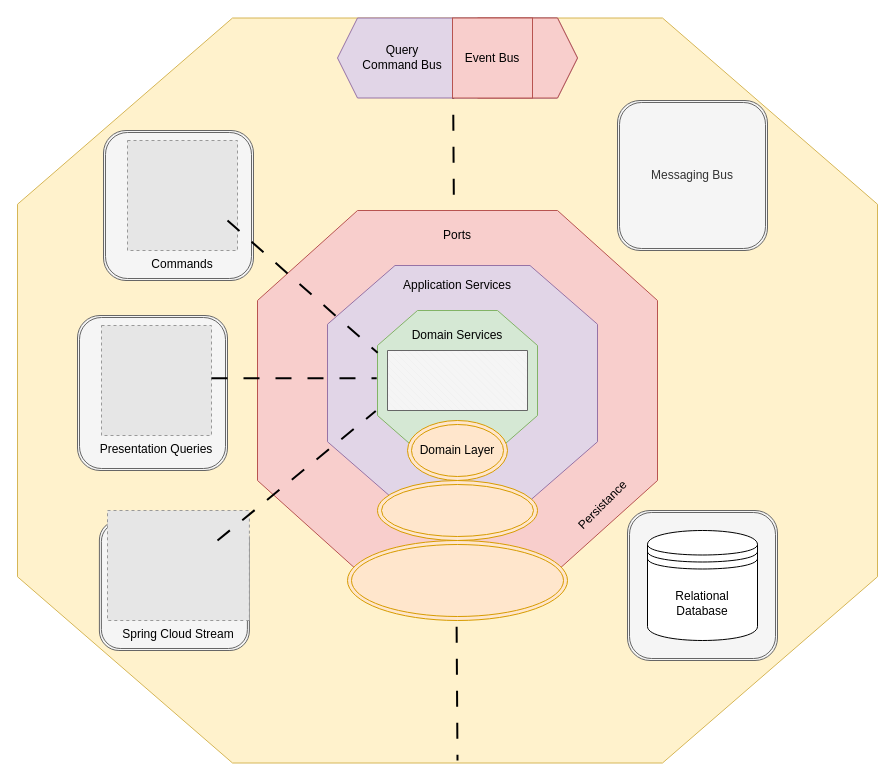
The diagram is 895 pixels wide and 780 high, and some of its shapes have lost their labels. Grey dashed boxes stand in for pictures. The shapes that lost their labels are listed below. From the top down, each one's centre as x and y in pixels, then its label:
At point (457, 380): "DDD Entities".
At point (457, 510): "Application Layer".
At point (457, 580): "Framework Layer".
